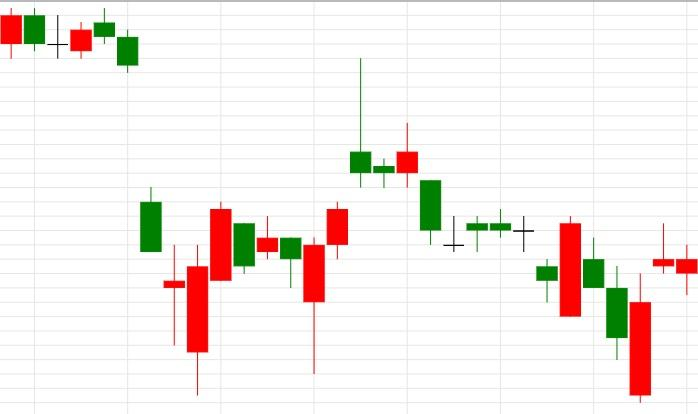bullish_engulfing_rise: (419, 181, 581, 317)
